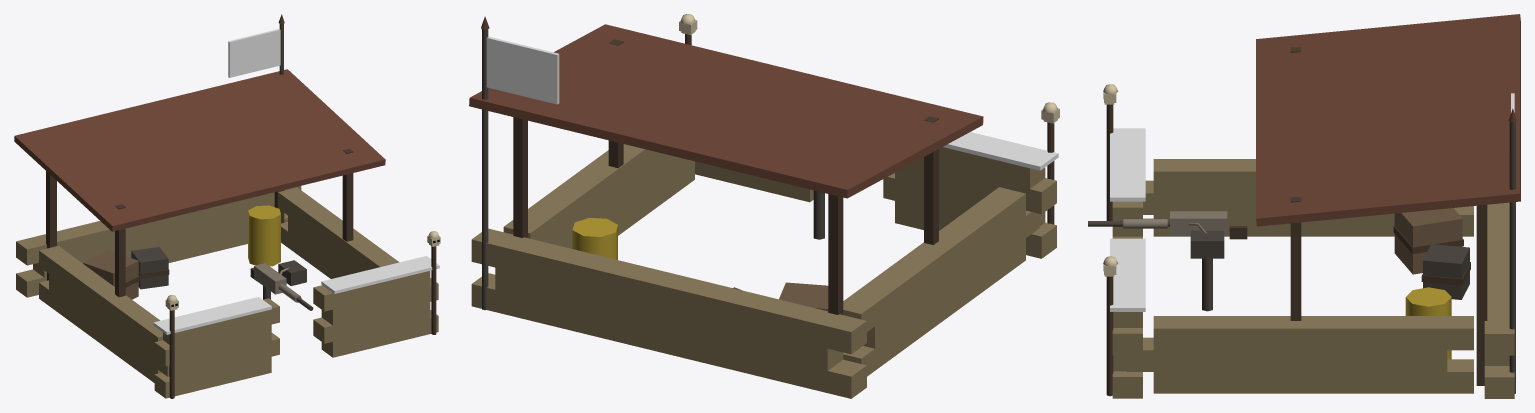
3 renders of one model, left to right at view 1: azimuth 30°, elevation 25°; view 2: azimuth 150°, elevation 25°; view 3: azimuth 270°, elevation 25°, orthographic. The views are drawn at different scales.
Parts seen in each view (by area): view 1: raider_building_mg_nest; view 2: raider_building_mg_nest; view 3: raider_building_mg_nest.
Boxes of the visible parts, x1=… form: raider_building_mg_nest: x1=14, y1=14, x2=440, y2=398; raider_building_mg_nest: x1=469, y1=14, x2=1059, y2=398; raider_building_mg_nest: x1=1088, y1=14, x2=1520, y2=398.
Size of the model in its own units: 4.82 by 3.55 by 4.89.
